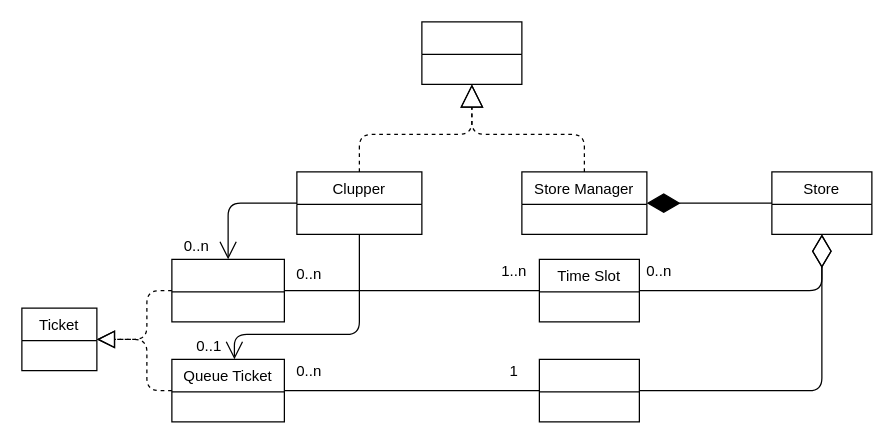
Some shapes in this 894 by 445 pixel diagram are drawn without their labels. The shapes that lost their labels are listed below. From the top down, each one's box as (x1, y1, x2, y2) in pixels, then its label:
(421, 21, 522, 84): User
(171, 258, 284, 322): Booking Ticket
(538, 358, 639, 422): Queue
